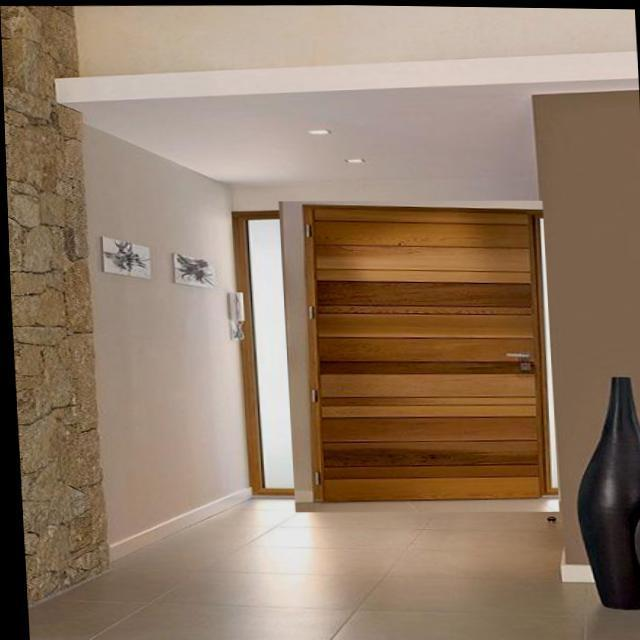door: (210, 170, 581, 530)
